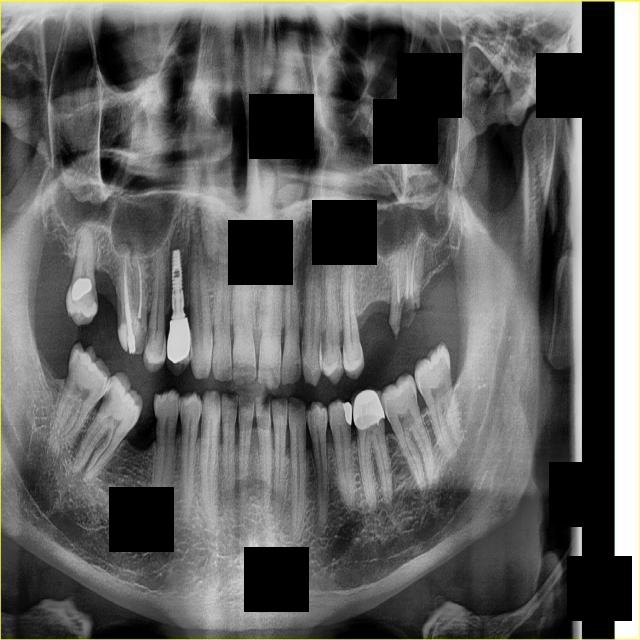55: (171, 249, 188, 320)
71: (121, 299, 136, 351)
74: (136, 255, 142, 318), (124, 253, 130, 305), (410, 248, 415, 296), (396, 267, 401, 304), (406, 251, 410, 295)
NucleOSS Implant: (70, 275, 93, 303), (342, 401, 355, 426)
Sterngold Implant: (387, 291, 419, 339), (98, 383, 116, 416), (134, 331, 148, 355), (89, 277, 99, 307), (144, 326, 155, 353), (156, 413, 161, 432)
Straumann Implant: (117, 324, 129, 353)
Zimmer Implant: (349, 385, 387, 432), (166, 317, 194, 377)
